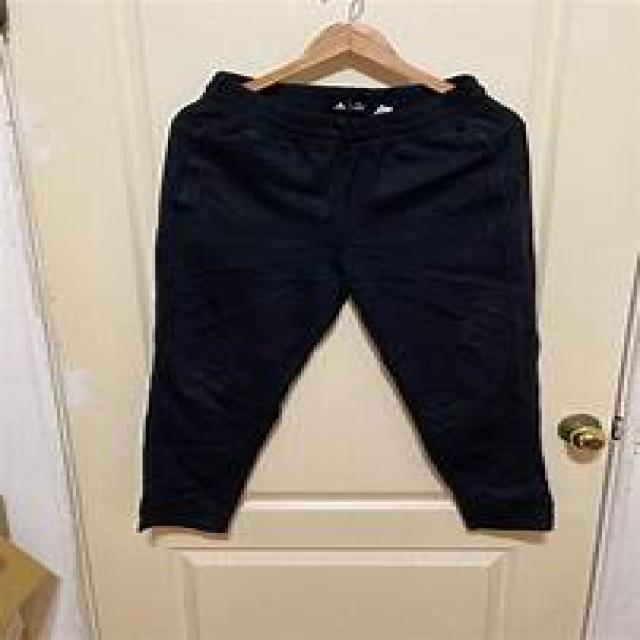long-pants: (135, 68, 558, 537)
